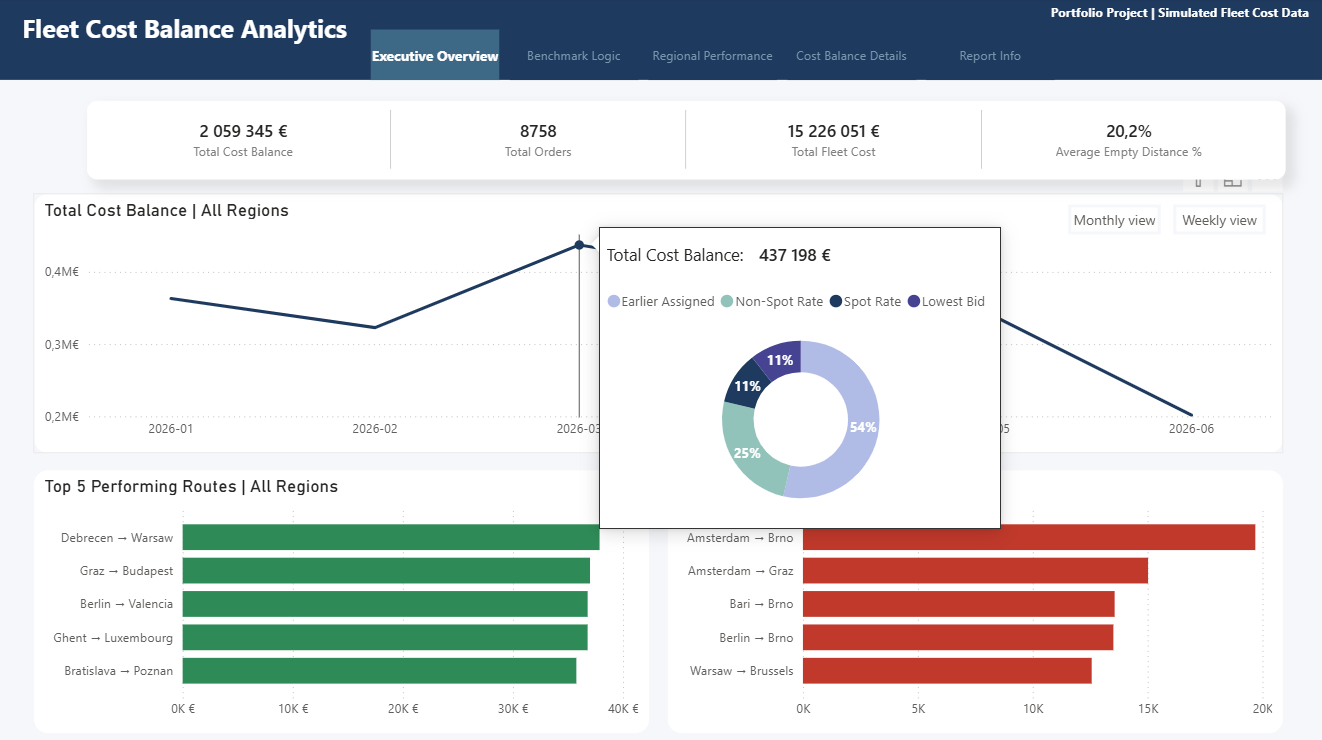

Layout of this report page (visuals, bound fields, positions):
{"tool":"powerbi","page":{"name":"Executive Overview","canvas":[1280,720],"ordinal":0},"visuals":[{"type":"shape","box":[0,0,1280.3,80],"z":0},{"type":"textbox","box":[19.2,10,332.1,67.2],"z":1000},{"type":"lineChart","fields":{"Category":["dim_calendar.Year Month"],"Y":["_measures.Total Cost Balance"]},"box":[34.4,189.4,1207.6,251.1],"z":2000},{"type":"clusteredBarChart","fields":{"Y":["_measures.Total Cost Balance"],"Category":["dim_route.lane_city"]},"box":[34.4,455.6,595,255.2],"z":3000},{"type":"clusteredBarChart","fields":{"Y":["_measures.Total Negative Cost Balance"],"Category":["dim_route.lane_city"]},"box":[646.4,455.6,595.5,255.2],"z":4000},{"type":"textbox","box":[1012.7,0,267.6,39.8],"z":5000},{"type":"pageNavigator","box":[360.9,31,661.4,49.4],"z":6000},{"type":"cardVisual","fields":{"Data":["_measures.Total Cost Balance","_measures.Total Orders","_measures.Total DF Cost","_measures.Average Empty Distance %"]},"box":[87.1,100,1157.1,75.7],"z":7000},{"type":"actionButton","box":[1034.4,200,89.3,29],"z":9000},{"type":"actionButton","box":[1135.7,200,89.3,29],"z":10000}]}

Visuals, with their boxes in screenshot pixels (x1, y1, x2, y2), scaled from the page's 1280x720 canvas onto the 1322x740 screenshot:
shape: box(0, 0, 1321, 82)
textbox: box(20, 10, 363, 79)
lineChart - dim_calendar.Year Month x _measures.Total Cost Balance: box(36, 195, 1283, 453)
clusteredBarChart - _measures.Total Cost Balance x dim_route.lane_city: box(36, 468, 650, 731)
clusteredBarChart - _measures.Total Negative Cost Balance x dim_route.lane_city: box(668, 468, 1283, 731)
textbox: box(1046, 0, 1321, 41)
pageNavigator: box(373, 32, 1056, 83)
cardVisual - _measures.Total Cost Balance x _measures.Total Orders: box(90, 103, 1285, 181)
actionButton: box(1068, 206, 1161, 235)
actionButton: box(1173, 206, 1265, 235)
